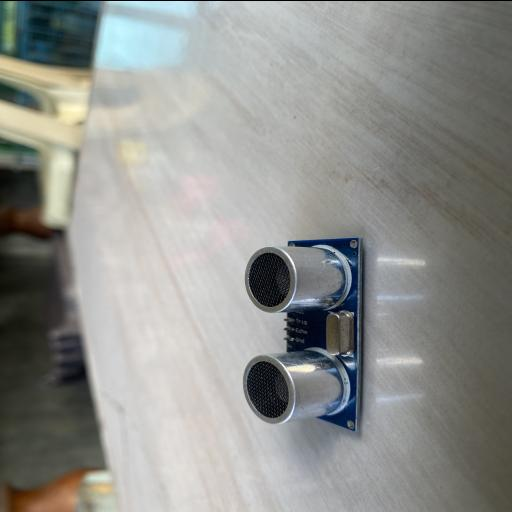Ultrasonic Sensor: (242, 237, 364, 431)
